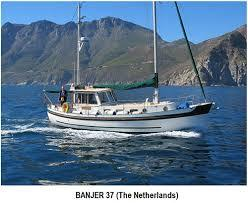Ship: (45, 88, 214, 139)
